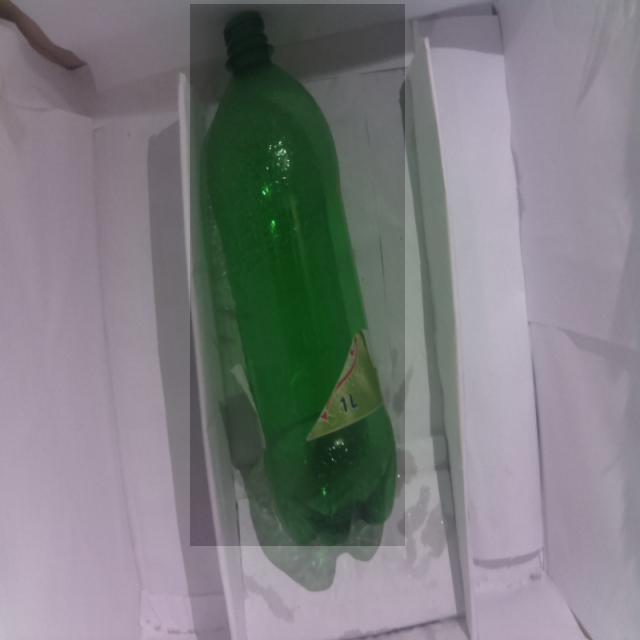BIODEGRADABLE: (190, 4, 405, 546)
